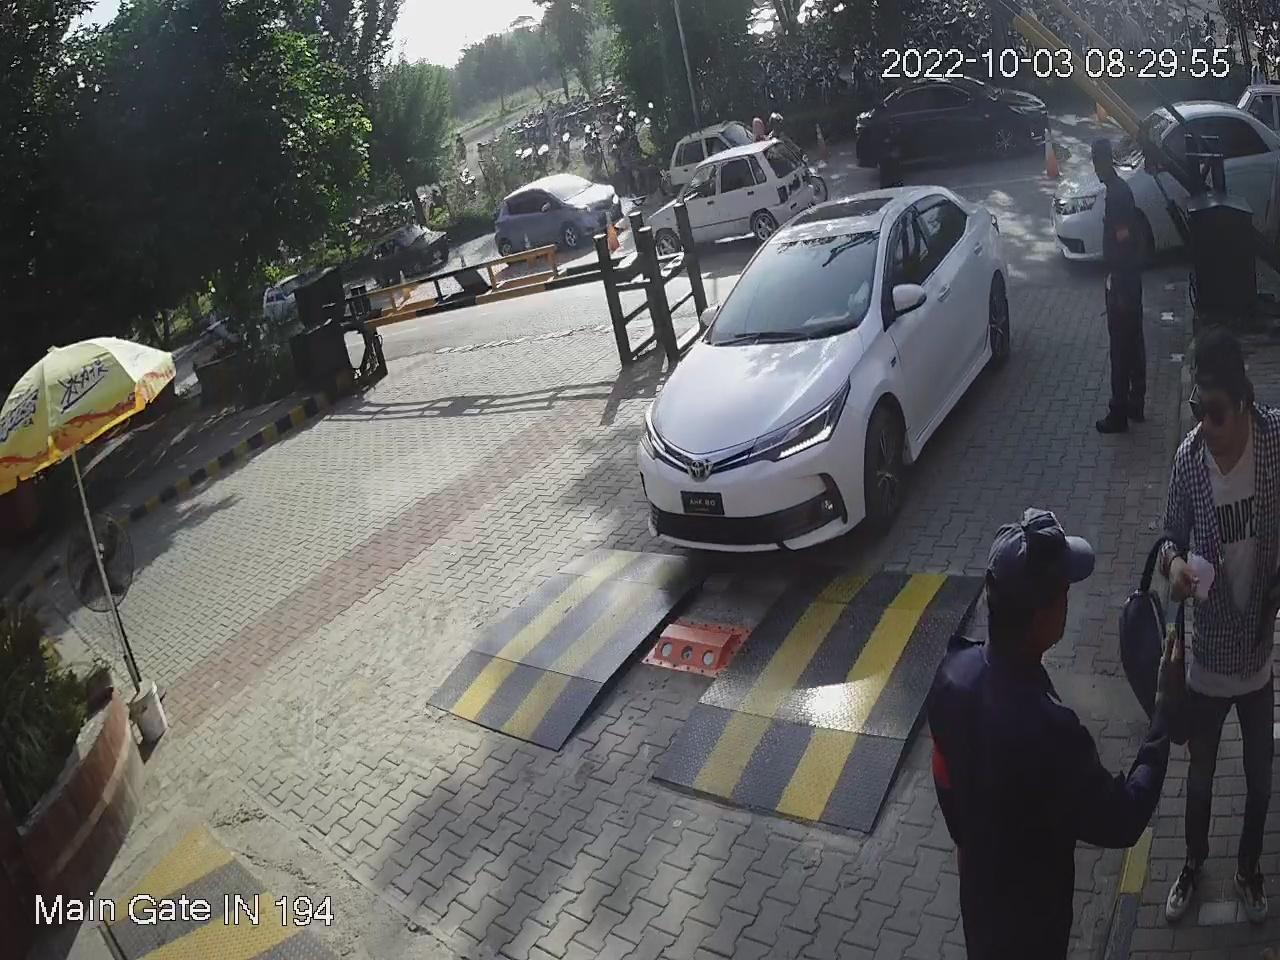windshield: (706, 230, 885, 343)
